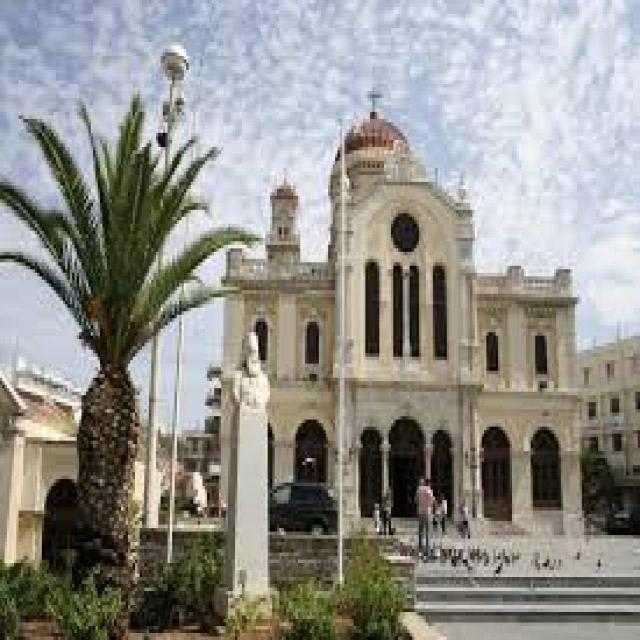Agios Minas: (218, 94, 590, 542)
